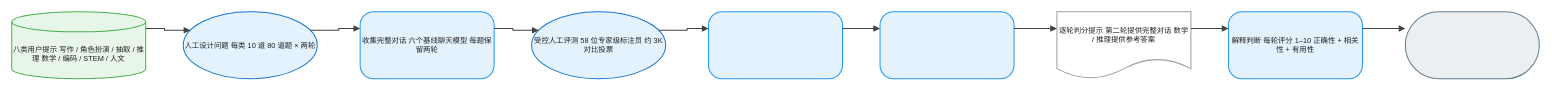
This 1552x91 diagram has some shape labels left out. Each missing label, with the centre of its shape:
"MT-Bench 得分 160 个轮次得分取平均 分类 / 轮次明细" goes at point (1472, 45).
"MT-Bench 标准判分器 GPT-4 单答案评分 兼顾扩展性与简洁性" goes at point (946, 45).
"验证 LLM 判分 成对 / 单答案 / 参考引导 测试位置与冗长偏差" goes at point (775, 45).
